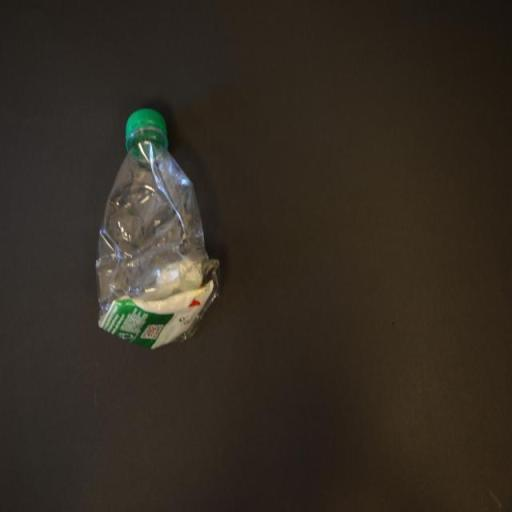plastic: (97, 107, 220, 352)
